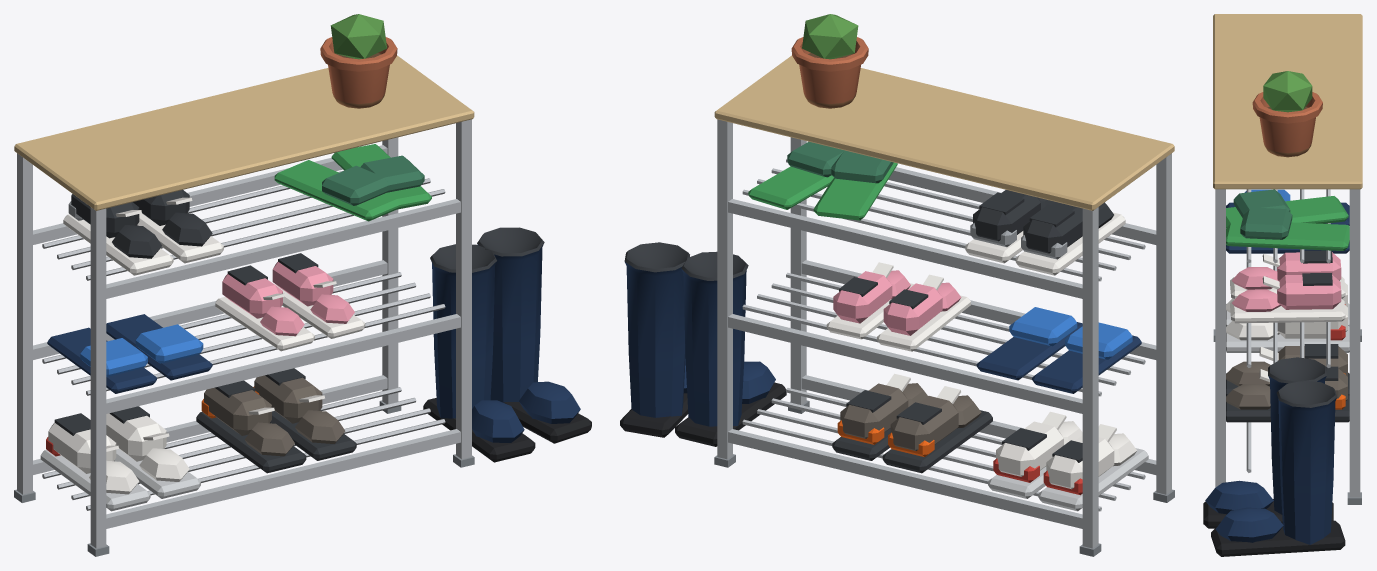
File: SC_Home_Shoe_Rack_Outdoor.gltf
The picture shows the model from 3 angles, left to right: view 1: azimuth 30°, elevation 25°; view 2: azimuth 150°, elevation 25°; view 3: azimuth 270°, elevation 25°; orthographic projection. The views are drawn at different scales.
Parts seen in each view (by area): view 1: SC_Home_Shoe_Rack_Outdoor; view 2: SC_Home_Shoe_Rack_Outdoor; view 3: SC_Home_Shoe_Rack_Outdoor.
Part boxes in pixels (x1,y1,x2,y2): SC_Home_Shoe_Rack_Outdoor: (14, 14, 591, 556); SC_Home_Shoe_Rack_Outdoor: (620, 14, 1174, 556); SC_Home_Shoe_Rack_Outdoor: (1203, 14, 1362, 556).
Bounding box in the file's own units: 1.09 × 0.916 × 0.33.
Materials: 1 (1 with a texture image).
